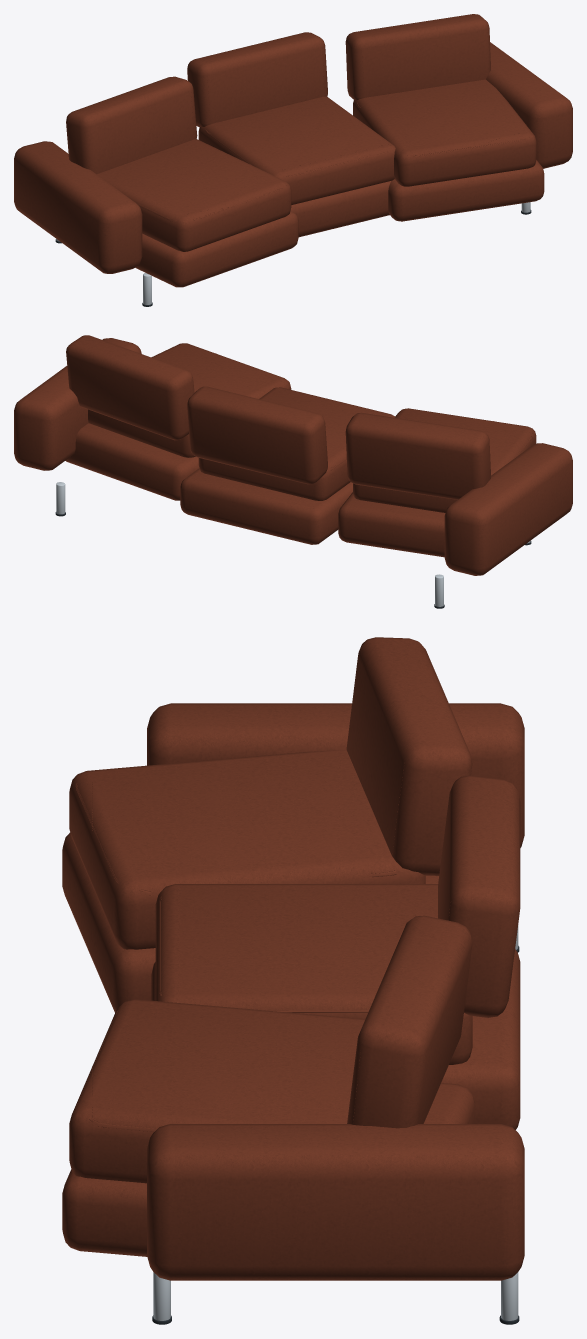
Rendered from curve-sofa.glb.
3 views of the same model, one above another, from view 1: azimuth 30°, elevation 25°; view 2: azimuth 150°, elevation 25°; view 3: azimuth 270°, elevation 25° (orthographic). The views are drawn at different scales.
Visible parts, largest first — view 1: curve-sofa authored assembly; view 2: curve-sofa authored assembly; view 3: curve-sofa authored assembly.
Part boxes in pixels (bbox=[...]): curve-sofa authored assembly: bbox=[14, 14, 572, 306]; curve-sofa authored assembly: bbox=[14, 335, 572, 608]; curve-sofa authored assembly: bbox=[62, 637, 524, 1324].
Bounding box in the file's own units: 2.6 × 0.8 × 1.1.
Materials: 4 (1 with a texture image).
